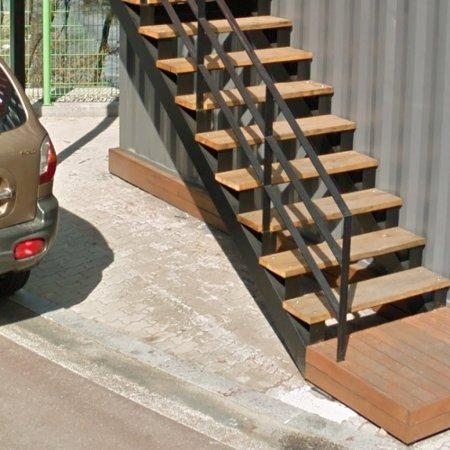stairs: (123, 0, 450, 444)
